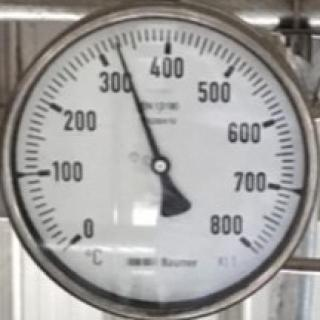gauge: (0, 0, 320, 320), (206, 212, 262, 262), (60, 219, 96, 253), (149, 154, 171, 176), (112, 37, 124, 55)
